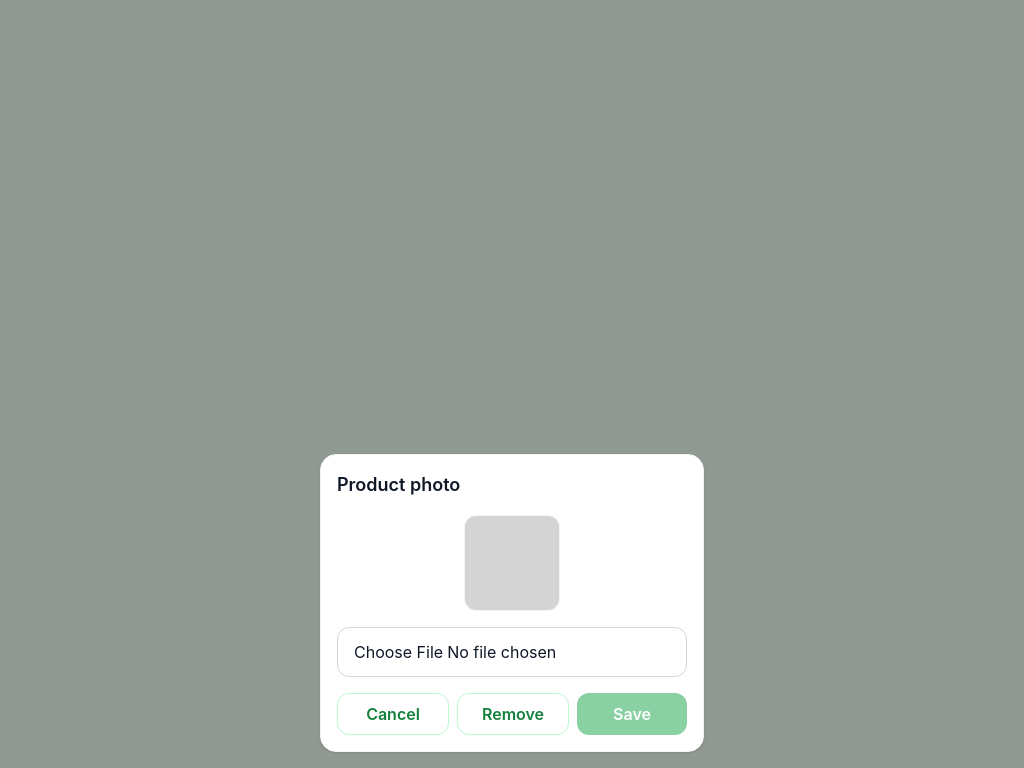
Test: ItemPhotoModal — remove flow › shows an error and keeps the modal open when removal fails
Click the button "Remove": (513, 714) [457,693,569,735]
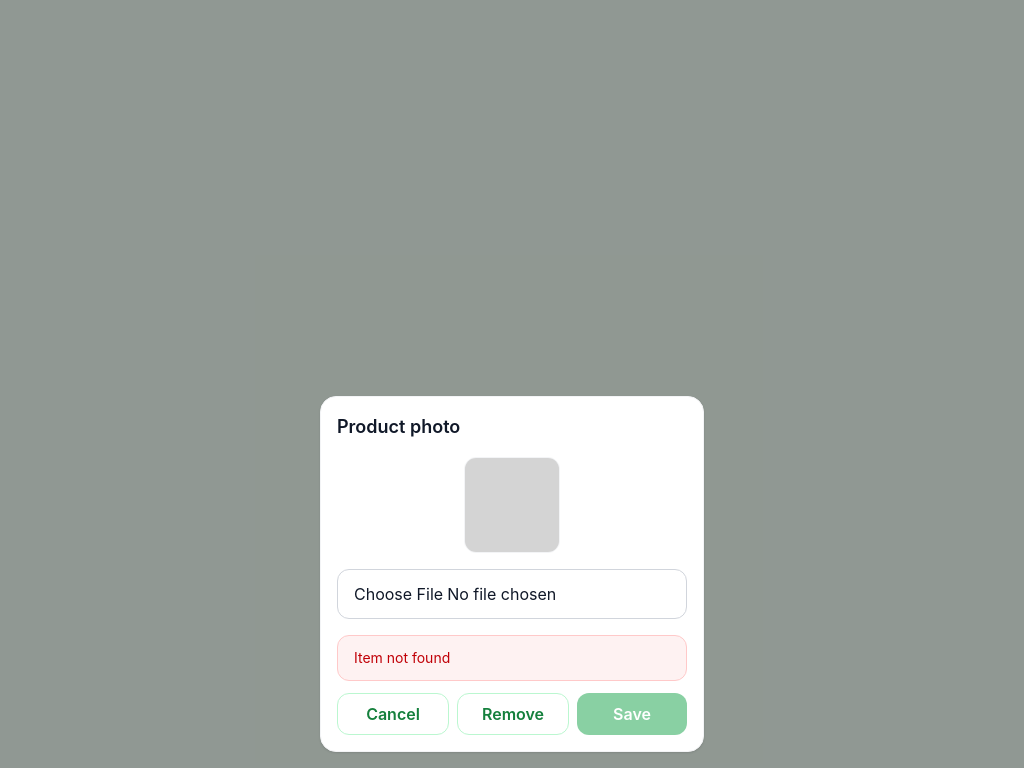
Result: the text "Item not found" is shown at [337,635,687,681]
